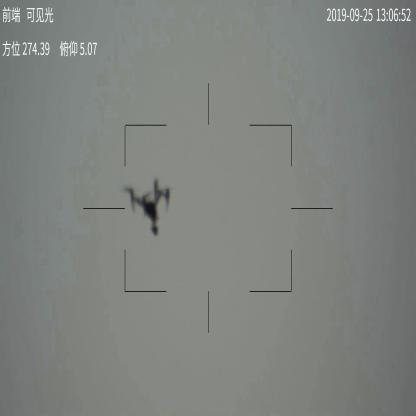uav: (121, 177, 174, 235)
